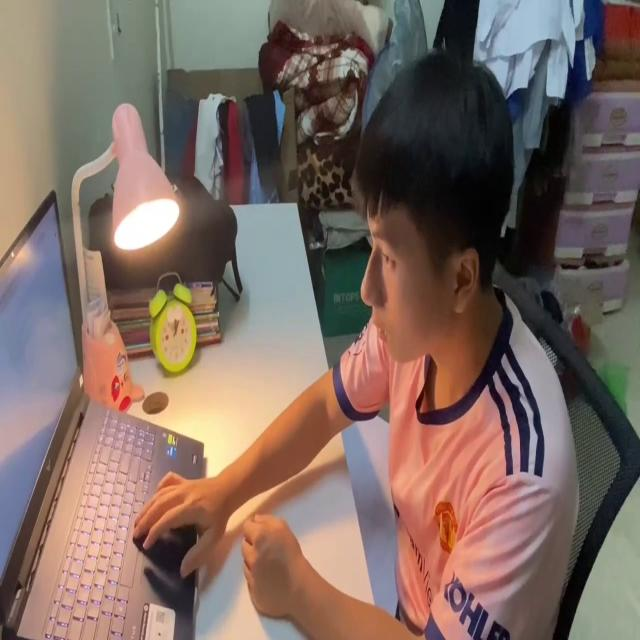laptop: (0, 184, 208, 640)
